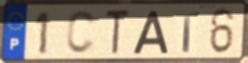1: (34, 11, 50, 56)
6: (208, 7, 236, 56)
A: (131, 10, 170, 55)
C: (64, 9, 98, 56)
T: (104, 8, 132, 56), (175, 10, 201, 54)
